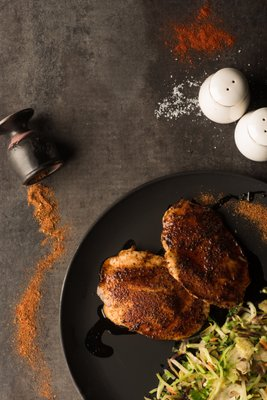curry: (4, 2, 267, 399)
